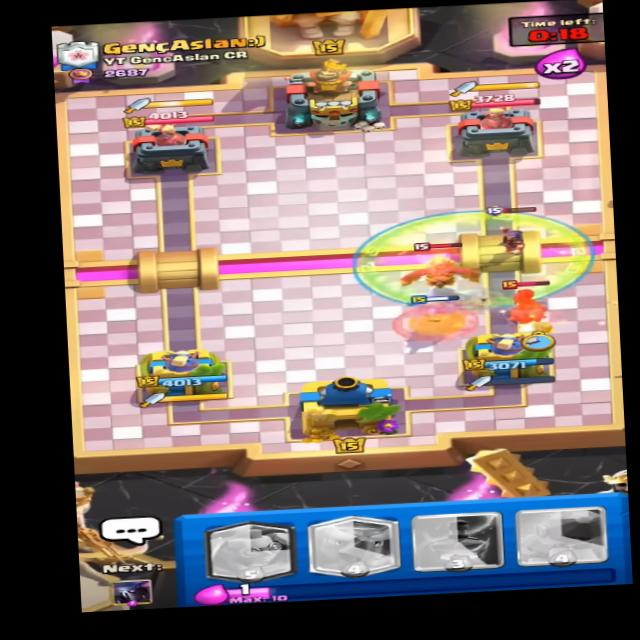evo-wizard: (480, 209, 541, 256)
phoenix: (380, 239, 492, 292)
ram-rider: (500, 275, 553, 325)
